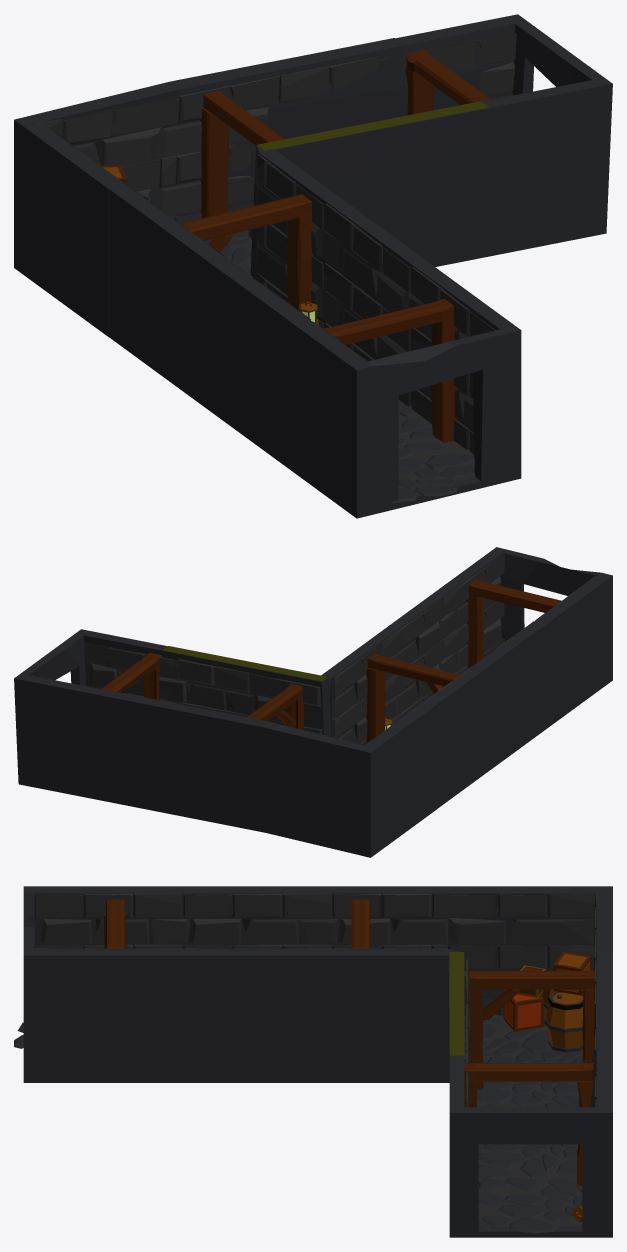
File: 2Way.fbx
3 renders of one model, top to bottom at view 1: azimuth 30°, elevation 25°; view 2: azimuth 150°, elevation 25°; view 3: azimuth 270°, elevation 25°, orthographic. The views are drawn at different scales.
Visible parts, largest first — view 1: Circle.003, arka.001, arka.002, arka, arka.004; view 2: Circle.003, Cube.009, arka.001, arka, arka.002, arka.004; view 3: Circle.003, Cube.007, arka.002, arka.004, bo4ka 2, box ner bo4ka, arka, arka.001, box bo4ka, Cube.009.
Boxes of the visible parts, bbox=[...] form: Circle.003: bbox=[14, 14, 612, 518]; arka.001: bbox=[180, 194, 313, 310]; arka.002: bbox=[199, 91, 284, 218]; arka: bbox=[323, 298, 457, 442]; arka.004: bbox=[405, 49, 491, 115]; Circle.003: bbox=[14, 547, 612, 857]; Cube.009: bbox=[84, 642, 322, 734]; arka.001: bbox=[366, 653, 459, 743]; arka: bbox=[466, 580, 561, 668]; arka.002: bbox=[247, 684, 303, 729]; arka.004: bbox=[101, 652, 162, 700]; Circle.003: bbox=[14, 886, 612, 1237]; Cube.007: bbox=[34, 893, 595, 1015]; arka.002: bbox=[469, 971, 594, 1089]; arka.004: bbox=[464, 1062, 593, 1186]; bo4ka 2: bbox=[544, 991, 583, 1052]; box ner bo4ka: bbox=[503, 990, 543, 1031]; arka: bbox=[104, 899, 126, 948]; arka.001: bbox=[351, 899, 369, 948]; box bo4ka: bbox=[553, 951, 591, 995]; Cube.009: bbox=[465, 958, 470, 1107].
Size of the model in its own units: 1870 by 590 by 2237.
